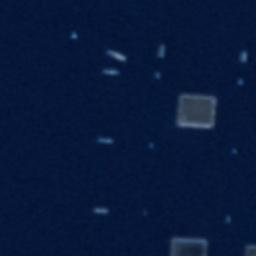square_cover: (172, 88, 219, 135), (167, 228, 212, 256)
